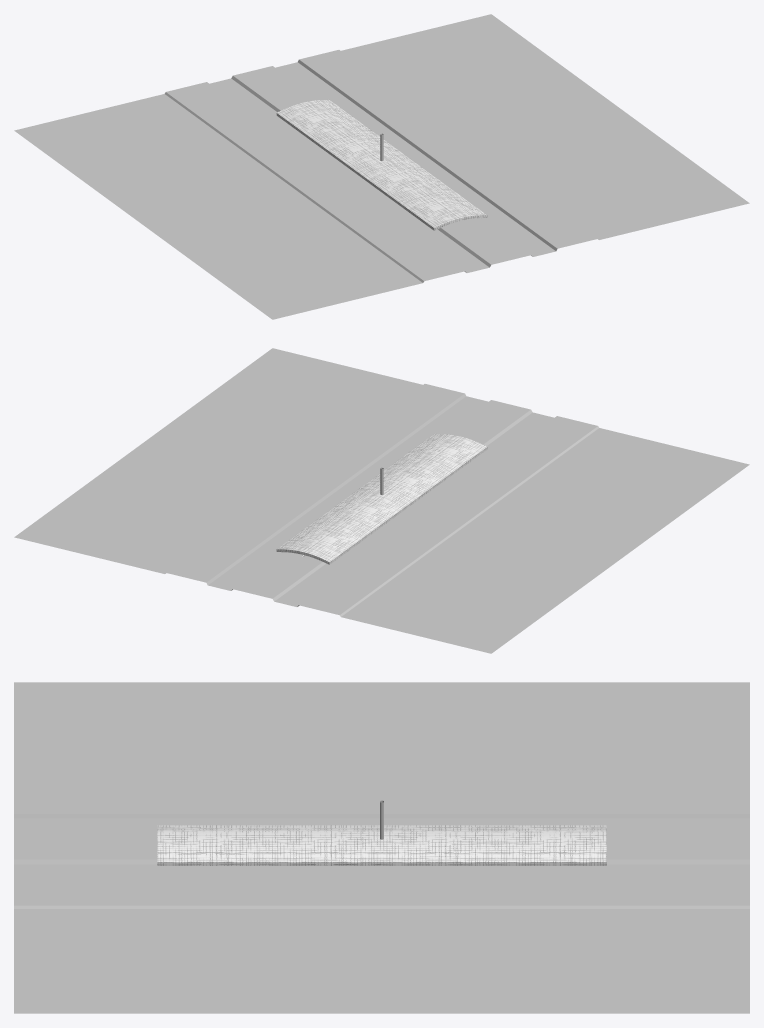
The model's file is SM_TrainMap_Kit1.fbx.
3 renders of one model, top to bottom at view 1: azimuth 30°, elevation 25°; view 2: azimuth 150°, elevation 25°; view 3: azimuth 270°, elevation 25°, orthographic. The views are drawn at different scales.
Visible parts, largest first — view 1: Ground, Roof; view 2: Ground, Roof; view 3: Ground, Roof.
Boxes of the visible parts, x1,y1,x2,y2 form: Ground: (14, 14, 749, 319); Roof: (276, 99, 487, 230); Ground: (14, 348, 749, 653); Roof: (276, 433, 487, 564); Ground: (14, 682, 749, 1013); Roof: (157, 825, 606, 865).
Size of the model in its own units: 5808 by 388 by 5449.
